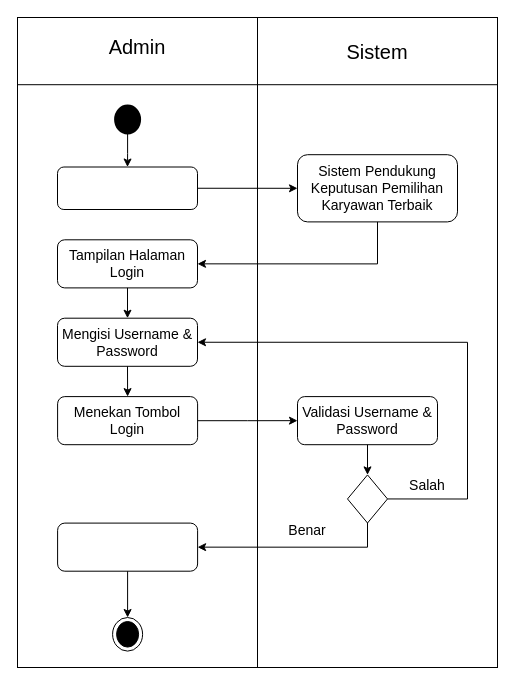
The diagram is 515 pixels wide and 686 high, and some of its shapes have lost their labels. Each missing label, with the centre of its shape:
Membuka Aplikasi: the point at 127,188
Tampilan Halaman Admin: the point at 127,546
